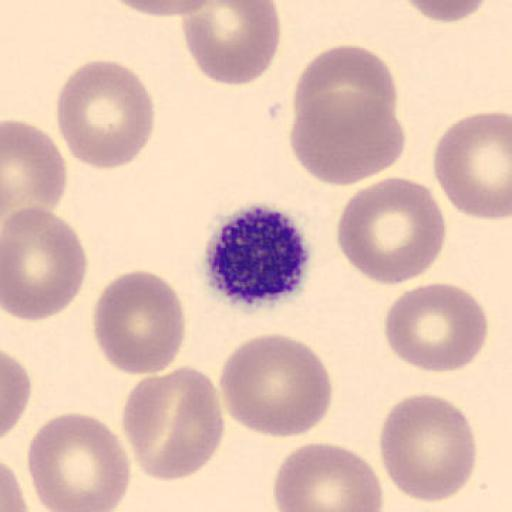Platelet: (198, 201, 315, 310)
RBC: (290, 43, 404, 188), (218, 332, 334, 440), (120, 364, 226, 482), (335, 176, 447, 287), (291, 43, 400, 150), (288, 90, 406, 188), (54, 58, 155, 170), (378, 392, 477, 504), (25, 410, 131, 512), (92, 268, 187, 377), (2, 204, 89, 322), (383, 281, 490, 375), (432, 110, 512, 221), (182, 0, 282, 86), (272, 440, 385, 512), (2, 118, 68, 222), (1, 348, 32, 440), (403, 0, 493, 23), (103, 0, 218, 18), (0, 461, 30, 512)
